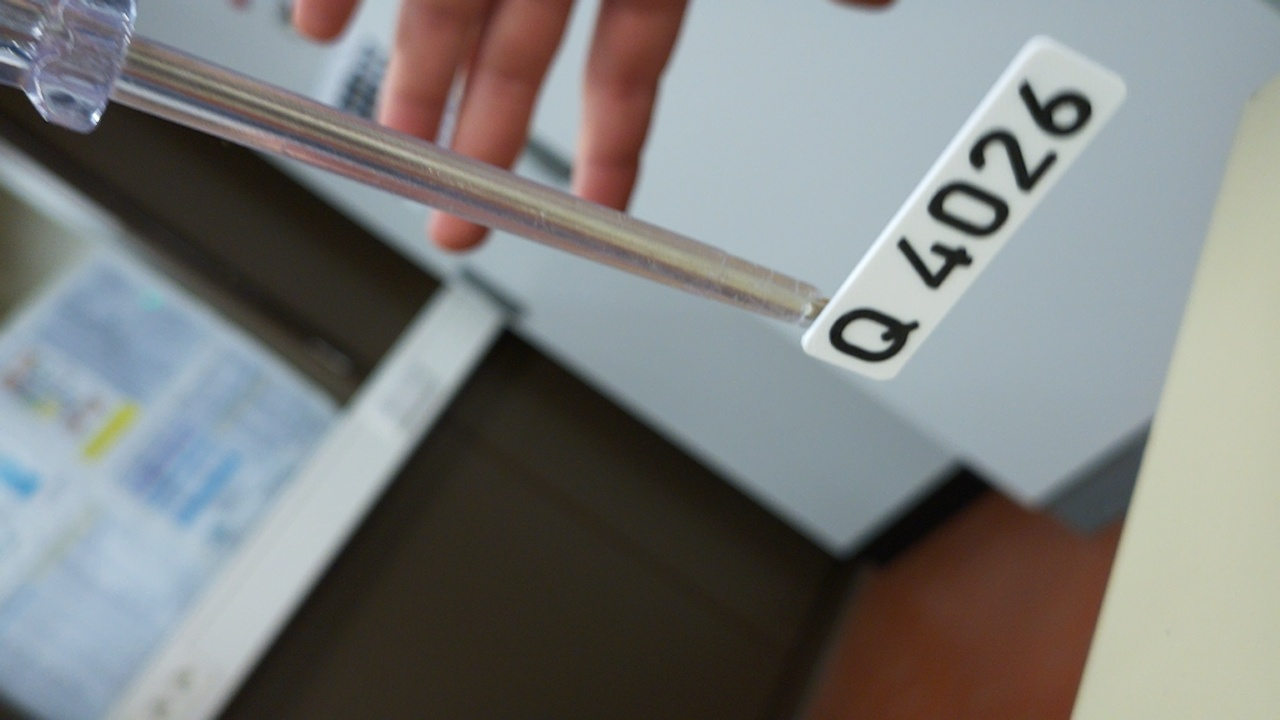license_plate: (797, 27, 1133, 387)
